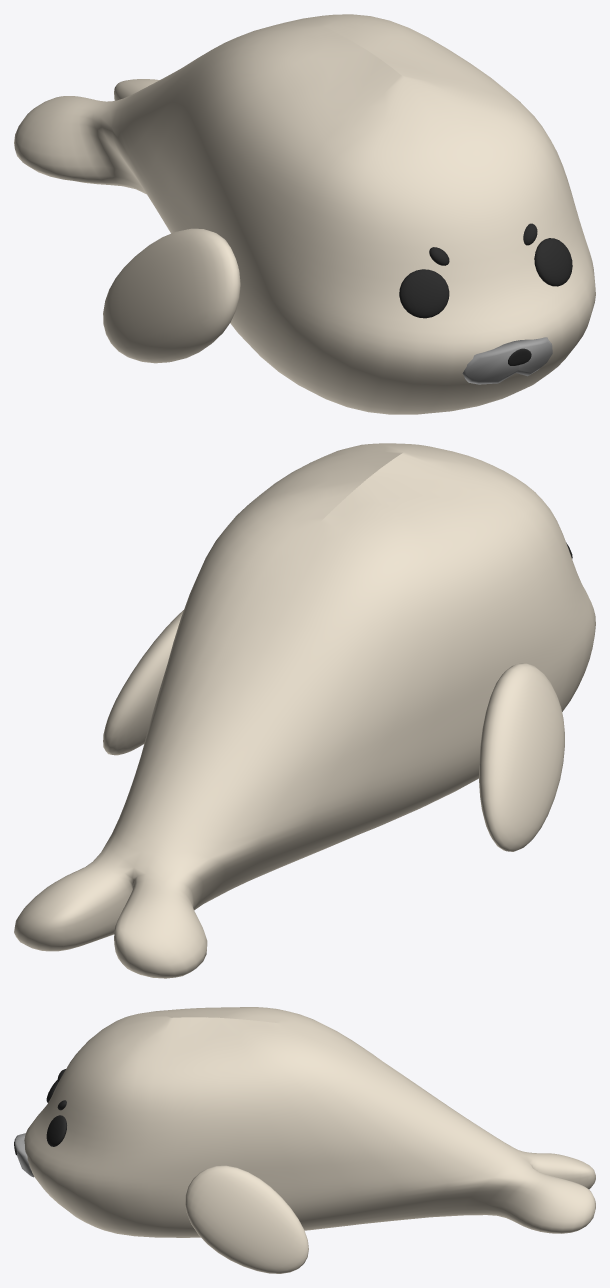
Rendered from SpottedSeal.glb.
The picture shows the model from 3 angles, top to bottom: view 1: azimuth 30°, elevation 25°; view 2: azimuth 150°, elevation 25°; view 3: azimuth 270°, elevation 25°; orthographic projection. The views are drawn at different scales.
Parts seen in each view (by area): view 1: 立方体.003, 立方体.004, 球.002, 円.001, 球.003; view 2: 立方体.003, 立方体.004; view 3: 立方体.003, 立方体.004, 球.002, 円.001.
Boxes of the visible parts, x1,y1,x2,y2 form: 立方体.003: (14,14,595,414); 立方体.004: (103,228,240,363); 球.002: (399,238,572,318); 円.001: (462,337,552,384); 球.003: (429,223,537,265); 立方体.003: (14,443,595,978); 立方体.004: (103,610,564,851); 立方体.003: (24,1007,595,1237); 立方体.004: (185,1165,308,1273); 球.002: (46,1079,66,1146); 円.001: (14,1133,34,1177).
Bounding box in the file's own units: 1.26 × 0.8677 × 2.3.
